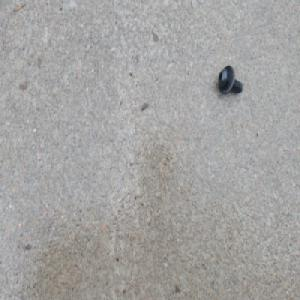BoltWasher: (217, 67, 243, 99)
